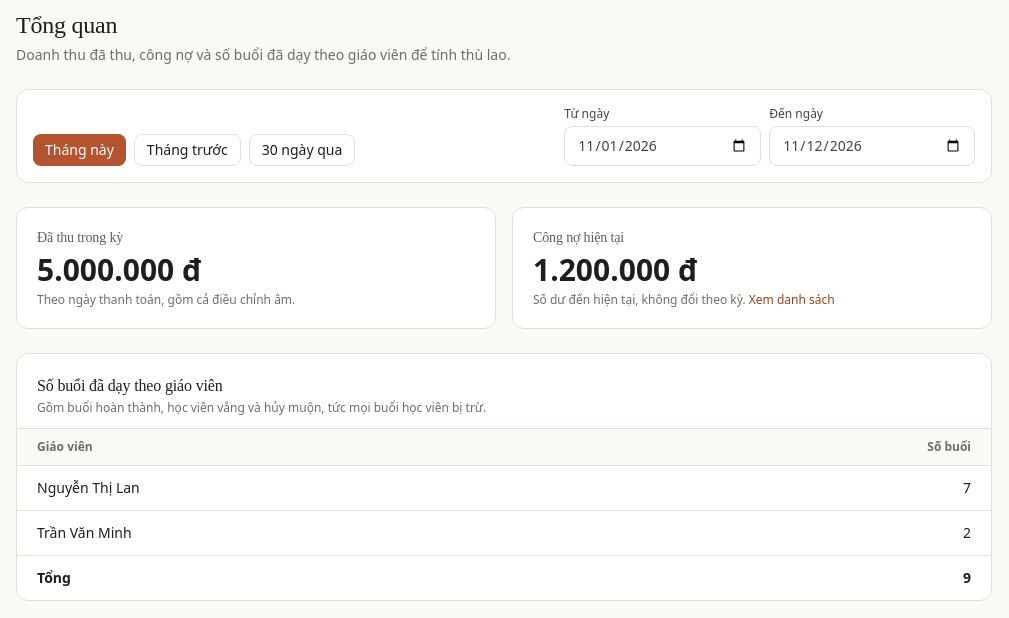
Test: DashboardPage › từ ngày sau đến ngày: báo lỗi, không gọi API
The width and height of the screenshot is (1009, 618).
Type "2099-01-01" into the date field labelled "Từ ngày".
click(663, 146); type("2099-01-01")  # box [564,126,761,166]
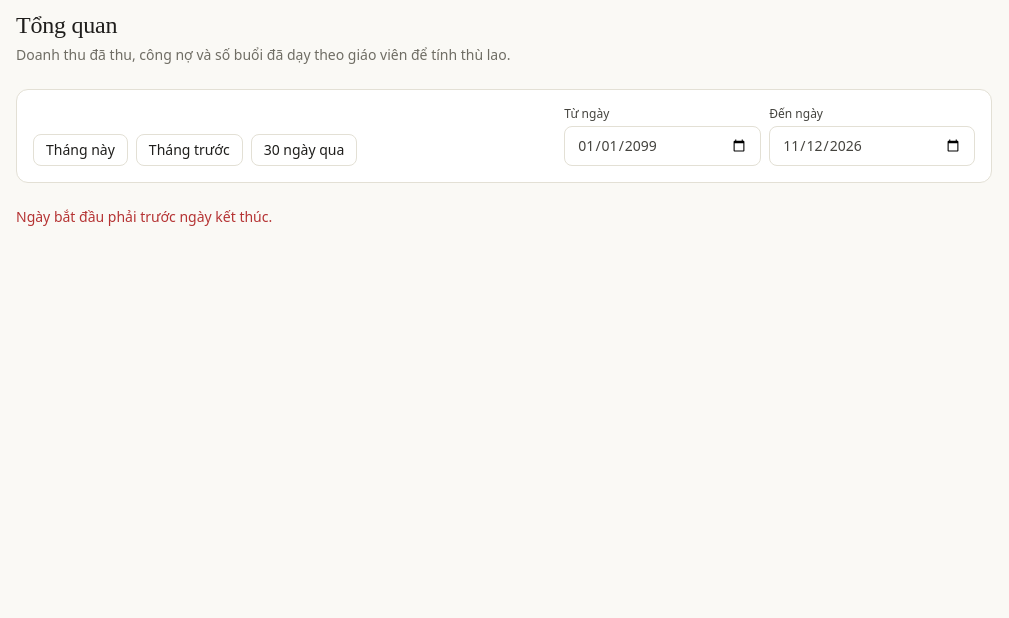
Check: the message reads "Ngày bắt đầu phải trước ngày kết thúc.", box [16,207,272,226]
